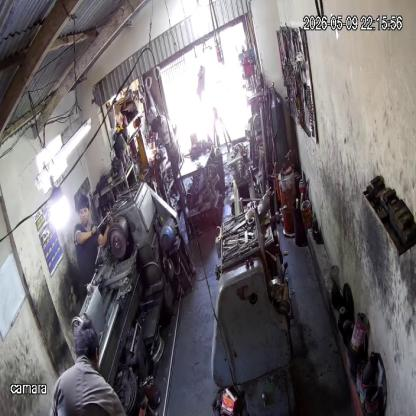sin_lentes: (77, 208, 90, 216)
